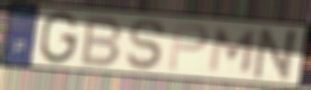B: (77, 14, 125, 69)
G: (37, 10, 82, 66)
M: (205, 25, 261, 75)
N: (250, 26, 303, 83)
P: (166, 21, 211, 73)
S: (124, 17, 168, 72)
